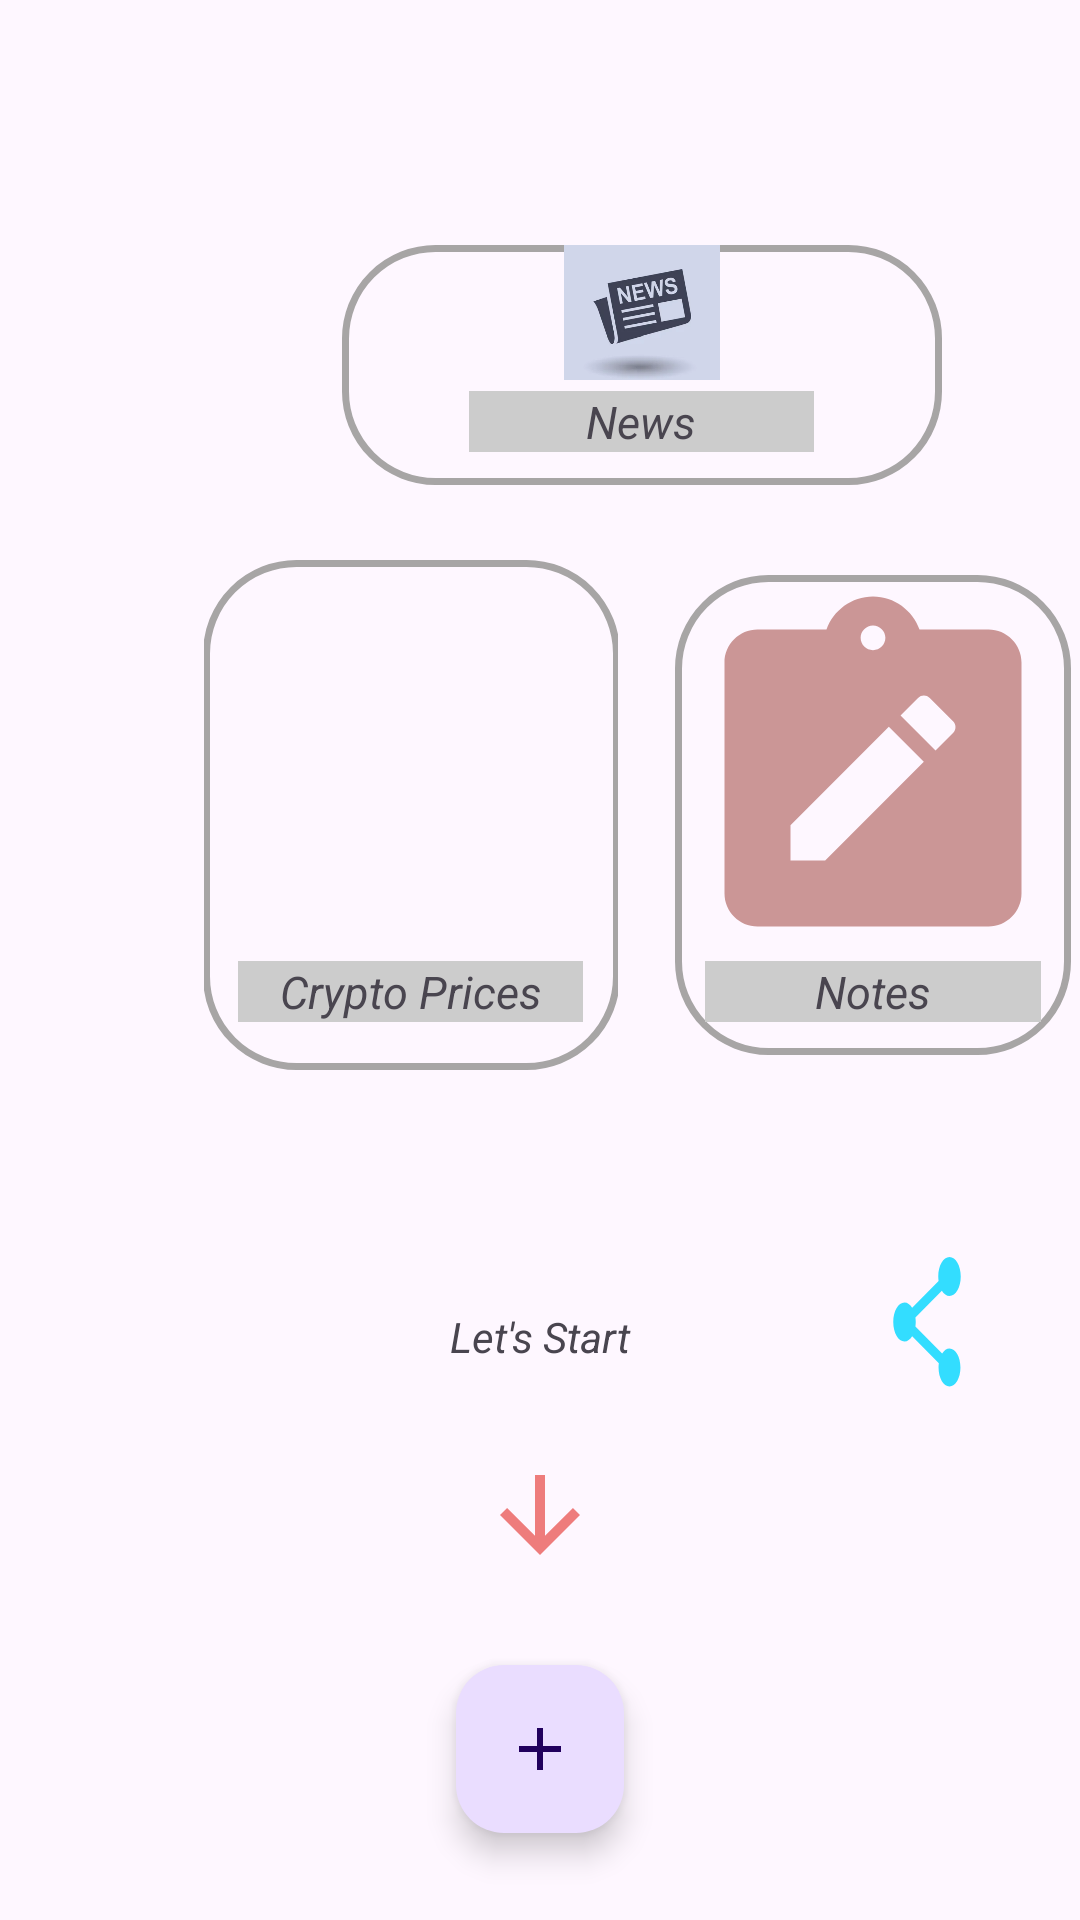

Icons on this 1080w x 1920h Android screen, each with its box as (x1,y1,x2,y2):
add: (456,1665,624,1833)
arrow downward: (500,1475,580,1555)
share: (893,1257,961,1387)
